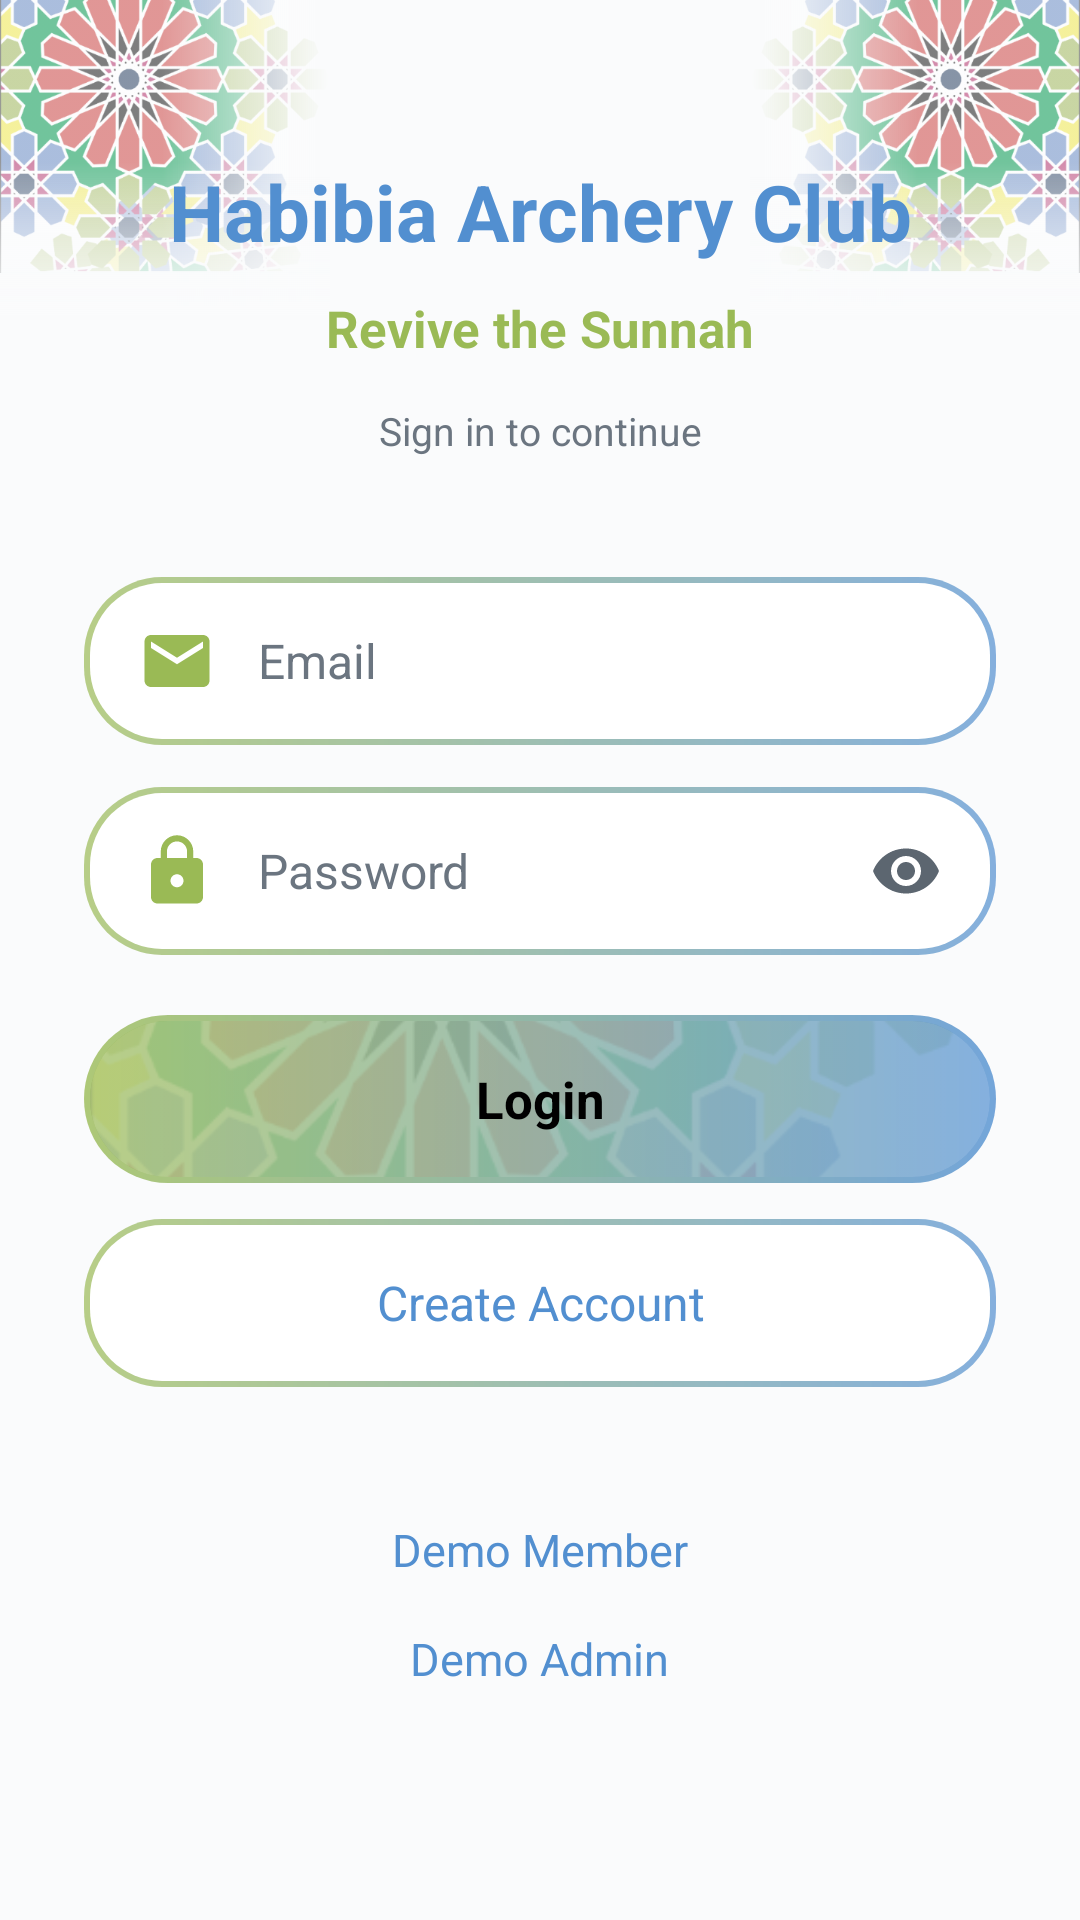

Icons on this 1080 x 1920 Android screen, each with its box as (x1, y1, x2, y2):
lock: (151, 835, 203, 904)
